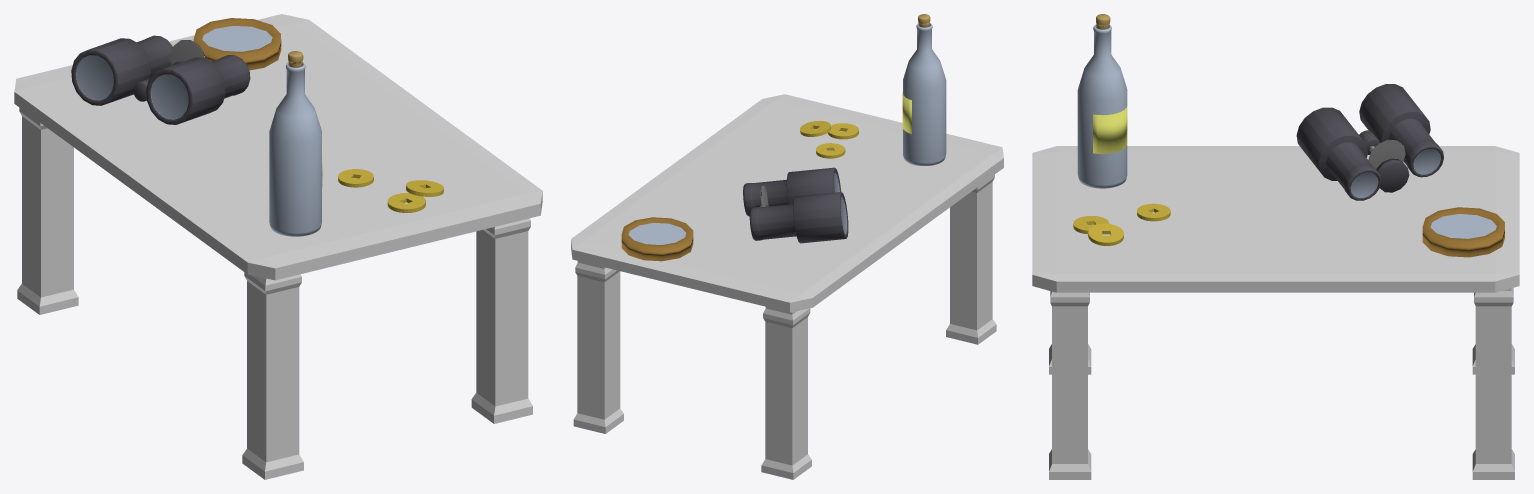
The model's file is Table.fbx.
The picture shows the model from 3 angles, left to right: view 1: azimuth 30°, elevation 25°; view 2: azimuth 150°, elevation 25°; view 3: azimuth 270°, elevation 25°; orthographic projection. The views are drawn at different scales.
Parts seen in each view (by area): view 1: Cube.002, Cube.003, Cube.004, Cube.005, Cylinder.010, Cylinder.001, Cylinder.002, Cylinder, Circle, Cylinder.007, Cylinder.006, Cylinder.009; view 2: Cube.002, Cube.006, Cube.005, Cube.003, Cylinder.010, Cylinder.002, Cylinder.001, Cylinder, Circle; view 3: Cube.002, Cube.006, Cube.004, Cylinder.010, Cylinder.001, Cylinder.002, Cylinder, Cylinder.013, Circle, Cylinder.003, Cylinder.006, Cylinder.008 (+1 smaller).
Part boxes in pixels (x1,y1,x2,y2): Cube.002: (14,14,542,280); Cube.003: (242,272,303,479); Cube.004: (471,218,532,423); Cube.005: (17,107,78,314); Cylinder.010: (269,62,321,236); Cylinder.001: (146,55,250,124); Cylinder.002: (71,35,172,105); Cylinder: (193,18,281,70); Circle: (202,26,272,51); Cylinder.007: (387,193,425,212); Cylinder.006: (170,40,205,65); Cylinder.009: (338,169,373,187); Cube.002: (571,94,1003,312); Cube.006: (573,261,623,433); Cube.005: (761,307,811,479); Cube.003: (946,174,996,344); Cylinder.010: (903,23,946,165); Cylinder.002: (749,192,848,243); Cylinder.001: (743,167,841,216); Cylinder: (621,217,693,261); Circle: (628,223,686,244); Cube.002: (1032,146,1519,292); Cube.006: (1472,288,1514,479); Cube.004: (1049,291,1091,479); Cylinder.010: (1077,24,1127,188); Cylinder.001: (1296,107,1381,200); Cylinder.002: (1359,84,1443,177); Cylinder: (1422,207,1504,257); Cylinder.013: (1093,106,1127,153); Circle: (1430,214,1496,238); Cylinder.003: (1376,158,1409,192); Cylinder.006: (1368,139,1405,168); Cylinder.008: (1088,223,1123,245).
Bounding box in the file's own units: 484 × 613 × 737.
